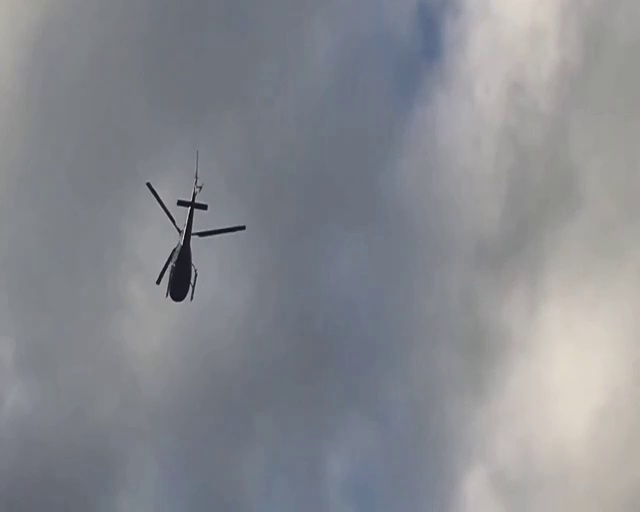HELICOPTER: (144, 148, 246, 305)
